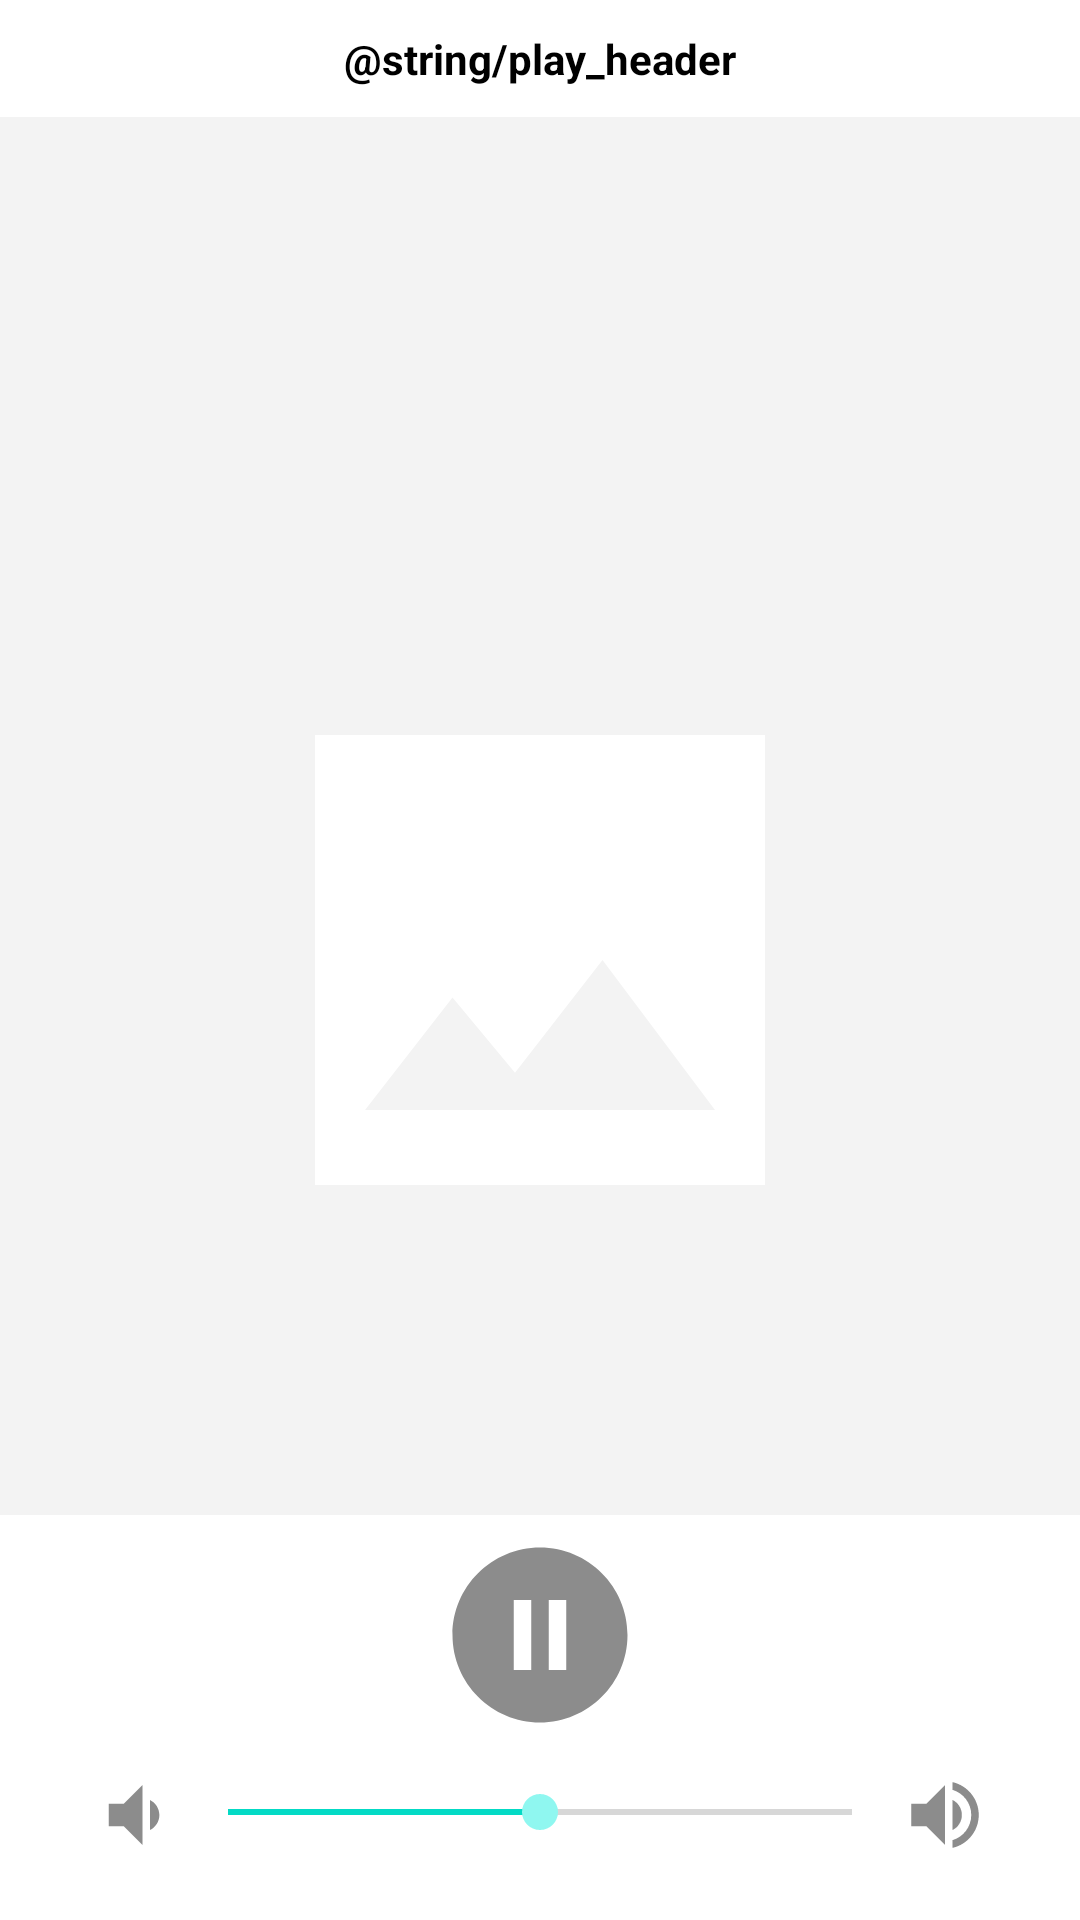

Locate icon controls on the screen. Image size 1080px x 1920px, boxes as bbox=(x1, y1, x2, y2).
pause circle: bbox=(452, 1547, 628, 1723)
volume down: bbox=(108, 1785, 160, 1845)
volume up: bbox=(911, 1782, 979, 1848)
